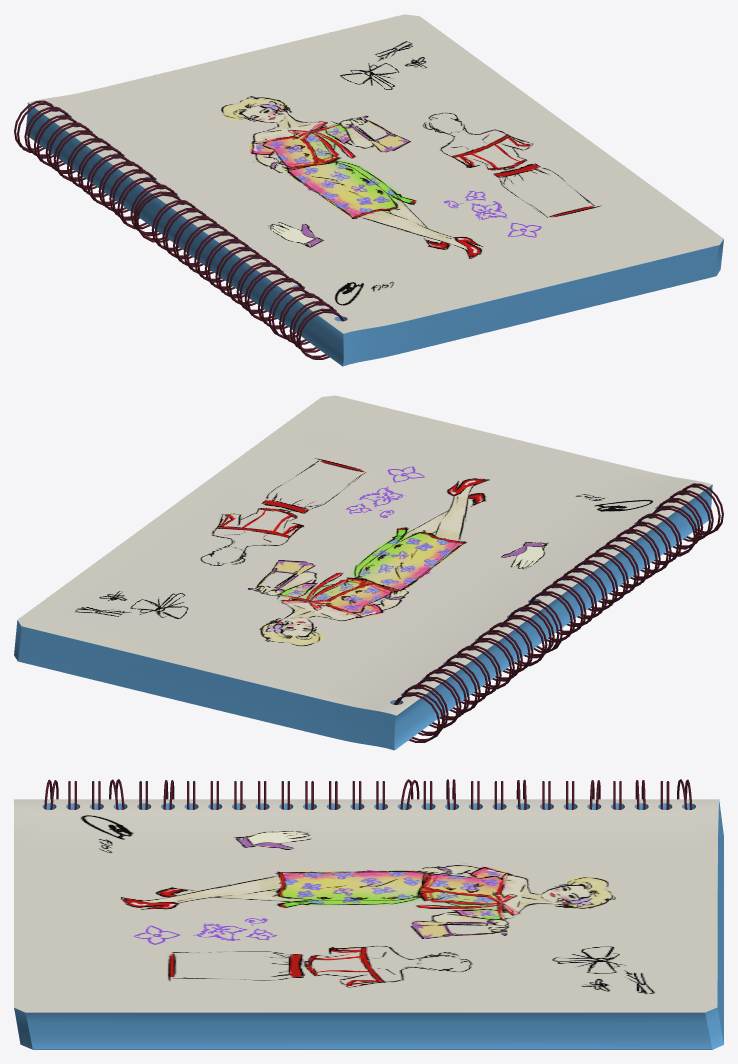
Rendered from Notebook.FBX.
3 views of the same model, one above another, from view 1: azimuth 30°, elevation 25°; view 2: azimuth 150°, elevation 25°; view 3: azimuth 270°, elevation 25° (orthographic). The views are drawn at different scales.
Parts seen in each view (by area): view 1: object_90, object_61; view 2: object_90, object_61; view 3: object_90, object_61.
Boxes of the visible parts, <box> form: object_90: <box>28,14,723,333</box>; object_61: <box>26,103,723,366</box>; object_90: <box>17,395,711,715</box>; object_61: <box>14,484,712,750</box>; object_90: <box>14,799,718,1012</box>; object_61: <box>14,799,723,1049</box>.
Bounding box in the file's own units: 226 × 300 × 25.47.
